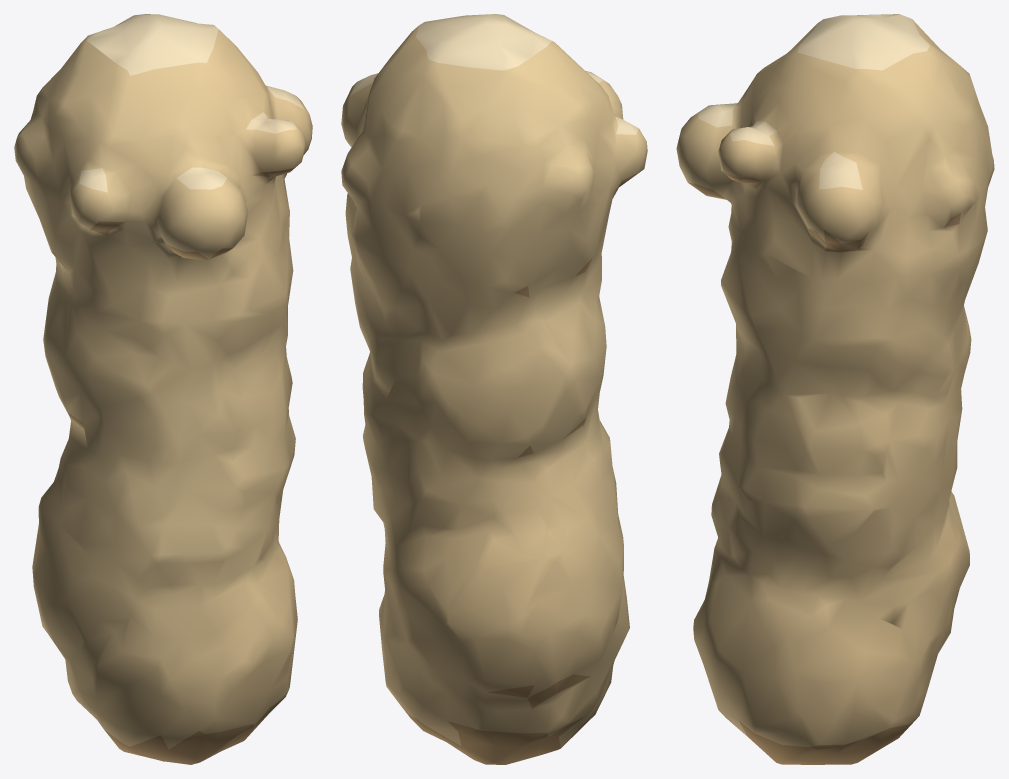
File: shore_sand_geyser.glb
3 renders of one model, left to right at view 1: azimuth 30°, elevation 25°; view 2: azimuth 150°, elevation 25°; view 3: azimuth 270°, elevation 25°, orthographic. The views are drawn at different scales.
Parts seen in each view (by area): view 1: shore_sand_geyser; view 2: shore_sand_geyser; view 3: shore_sand_geyser.
Part boxes in pixels (<box>): shore_sand_geyser: <box>14,14,312,764</box>; shore_sand_geyser: <box>341,14,647,764</box>; shore_sand_geyser: <box>676,14,994,764</box>.
Size of the model in its own units: 1.83 by 4.83 by 1.88.
